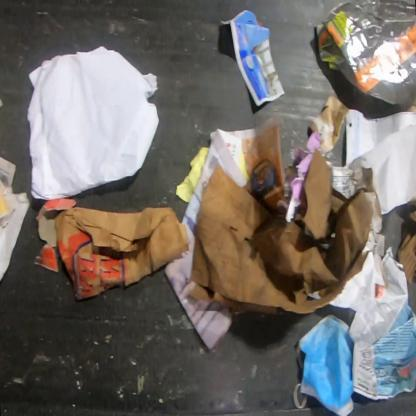cardboard: (181, 145, 374, 316), (315, 0, 415, 113), (326, 160, 386, 259), (34, 197, 78, 273), (395, 208, 416, 285), (404, 97, 415, 114)
